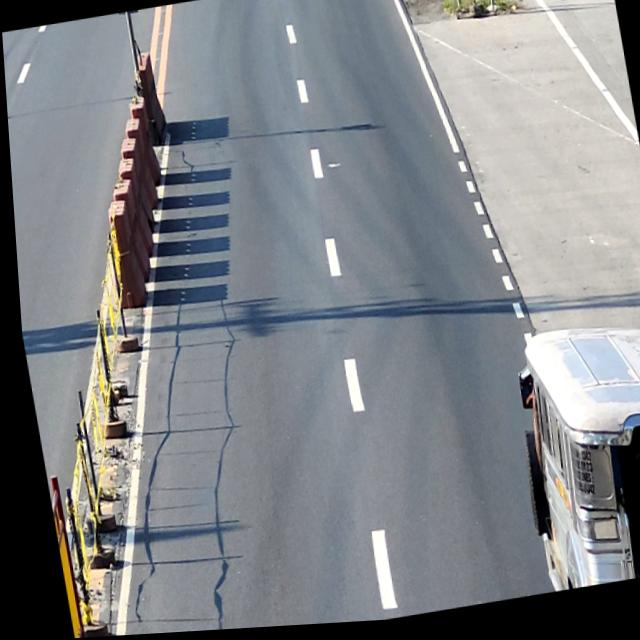Jeep: (496, 317, 640, 600)
